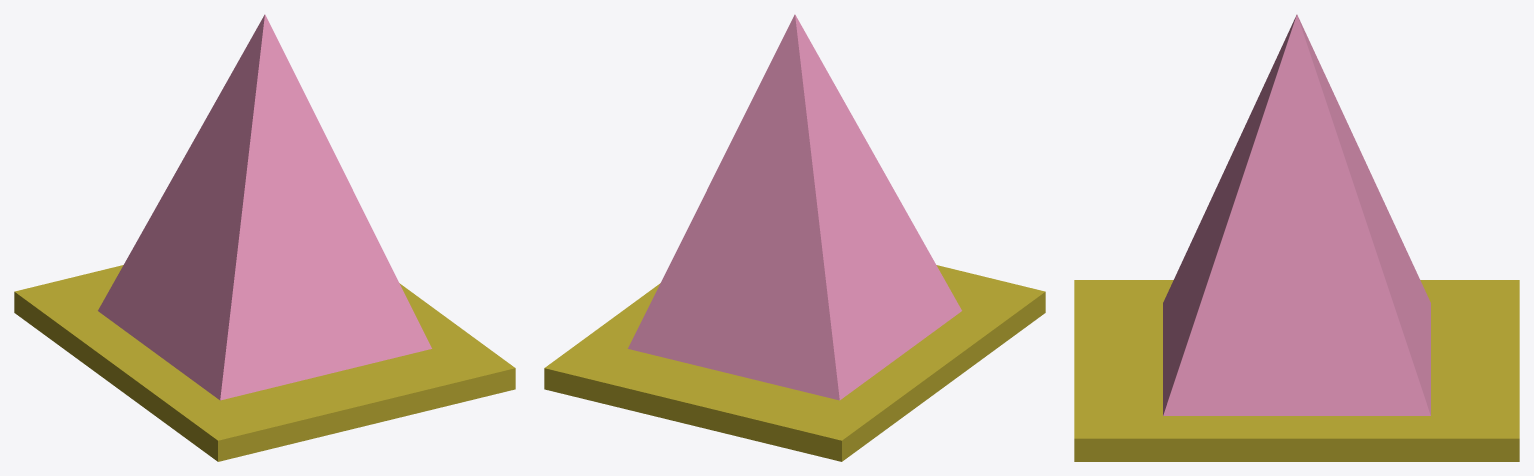
Rendered from white_pawn.glb.
The picture shows the model from 3 angles, left to right: view 1: azimuth 30°, elevation 25°; view 2: azimuth 150°, elevation 25°; view 3: azimuth 270°, elevation 25°; orthographic projection. The views are drawn at different scales.
Parts seen in each view (by area): view 1: Pyramid001, Box001; view 2: Pyramid001, Box001; view 3: Pyramid001, Box001.
Boxes of the visible parts, <box> form: Pyramid001: <box>98,14,431,400</box>; Box001: <box>14,265,515,461</box>; Pyramid001: <box>628,14,961,400</box>; Box001: <box>544,265,1045,461</box>; Pyramid001: <box>1163,14,1430,415</box>; Box001: <box>1074,280,1519,461</box>.
Bounding box in the file's own units: 0.1525 × 0.1651 × 0.1808.
